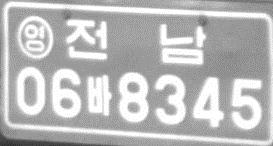0: (15, 65, 46, 117)
3: (154, 73, 187, 125)
4: (191, 76, 224, 128)
5: (230, 78, 263, 131)
6: (50, 68, 82, 119)
8: (118, 72, 149, 122)
바: (86, 74, 112, 116)
영: (15, 15, 53, 61)
전남_D: (64, 17, 207, 66)
